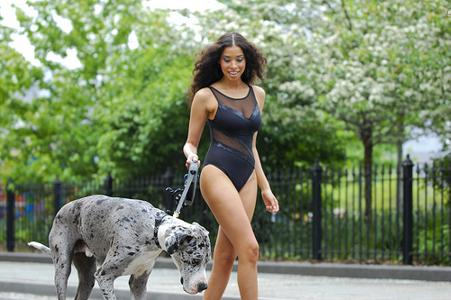person: (184, 32, 279, 300)
